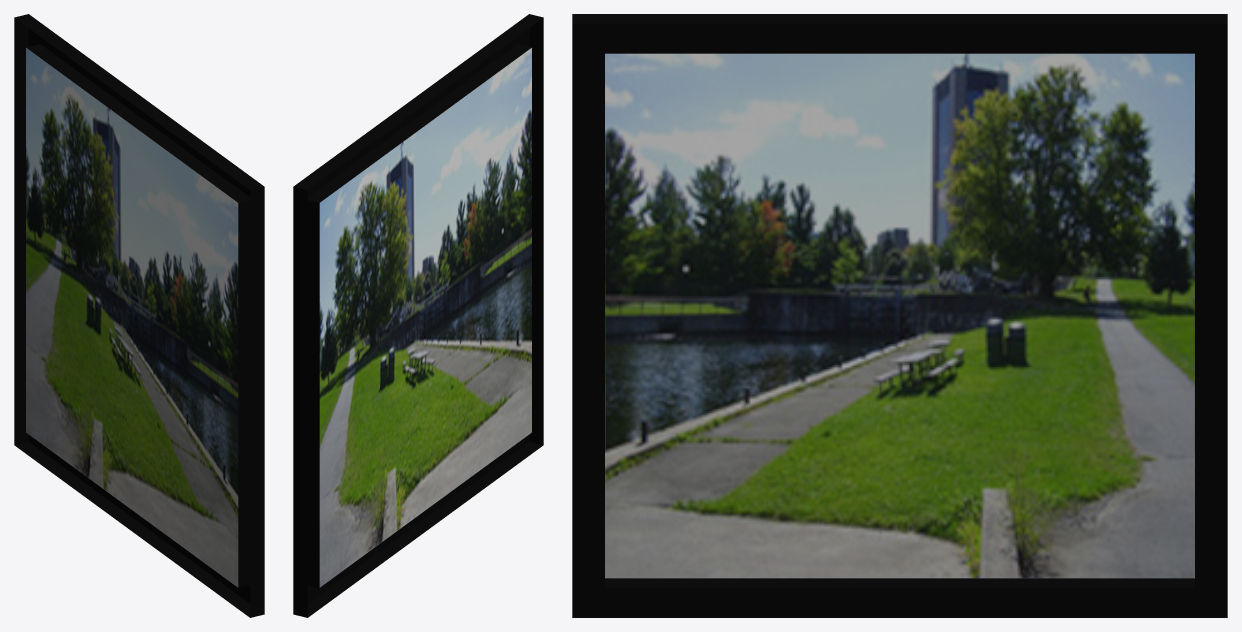
File: Picture2.glb
3 views of the same model, side by side, from view 1: azimuth 30°, elevation 25°; view 2: azimuth 150°, elevation 25°; view 3: azimuth 270°, elevation 25° (orthographic). The views are drawn at different scales.
Parts seen in each view (by area): view 1: Picture2; view 2: Picture2; view 3: Picture2.
Part boxes in pixels (x1=…): Picture2: x1=14, y1=14, x2=264, y2=617; Picture2: x1=293, y1=14, x2=543, y2=617; Picture2: x1=572, y1=14, x2=1227, y2=617.
Bounding box in the file's own units: 0.1 × 2.83 × 2.83.
2 materials, 2 textured.
